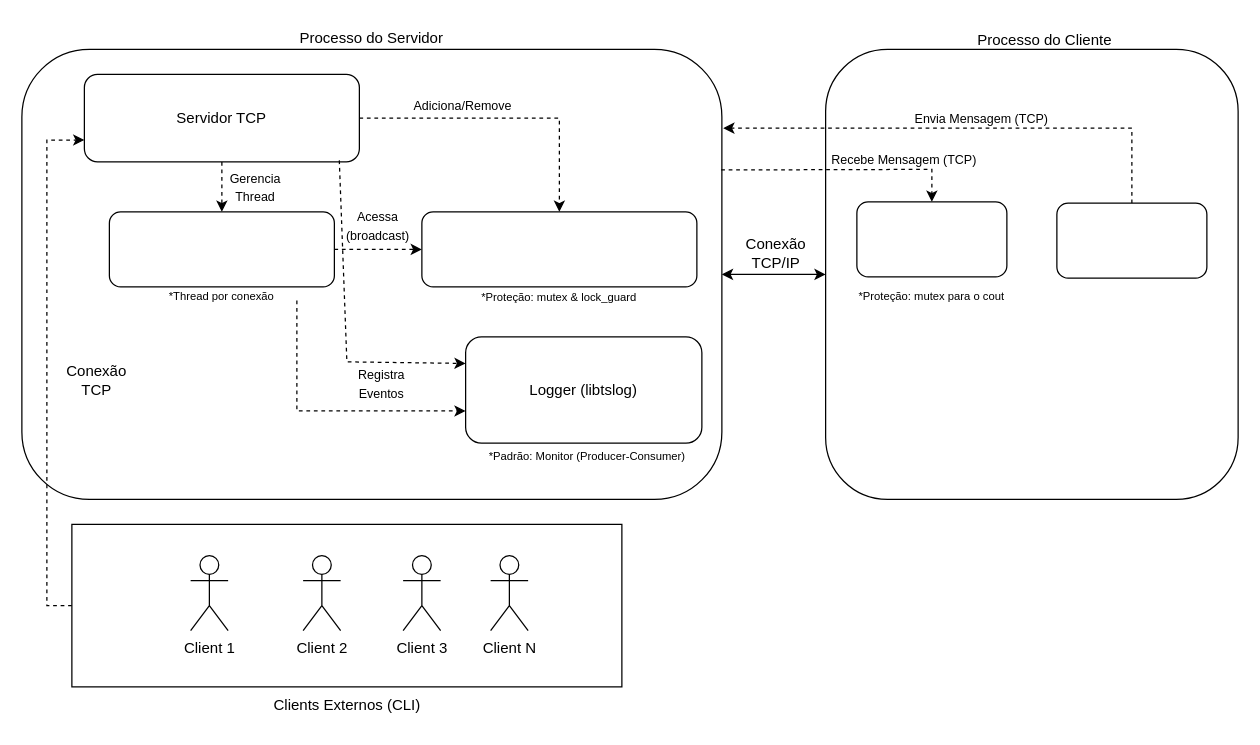
This 1260x745 diagram has some shape labels left out. The shapes that lost their labels are listed below. From the top down, each one's box as (x1, y1, x2, y2) in pixels, then its label:
(108, 211, 334, 287): ClientHandler (1 por cliente)
(421, 211, 697, 287): Lista de Clients
(856, 201, 1007, 277): receive_thread
(1056, 202, 1207, 278): main (loop de entrada)
